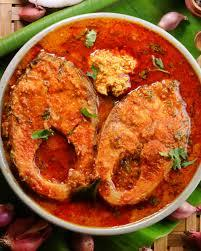Fish Curry: (7, 30, 194, 222)
